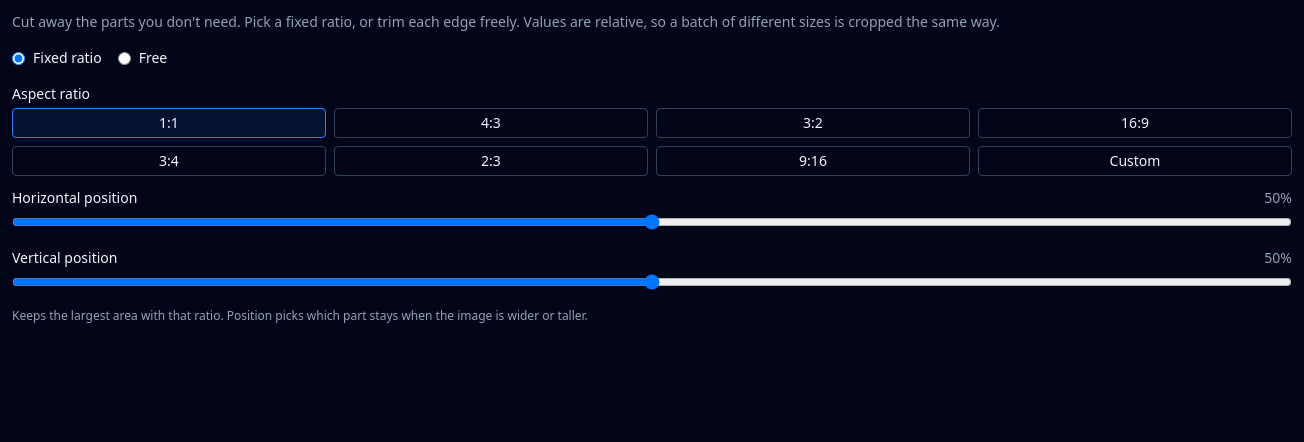
Test: crop panel › shows custom ratio fields and flags bad values
This screenshot has width=1304, height=442.
Expected: the field labelled "Ratio width" is not shown
Click the radio button labelled "Custom". click: (1135, 161)
box: 978,146 -> 1292,176
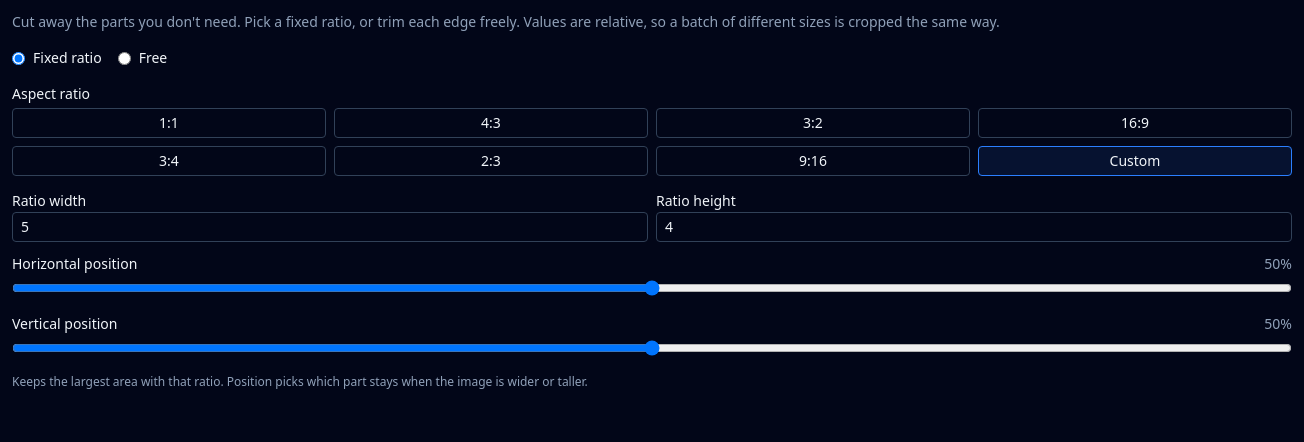
Clear the number field labelled "Ratio width". click: (330, 227)
box: 12,212 -> 648,242
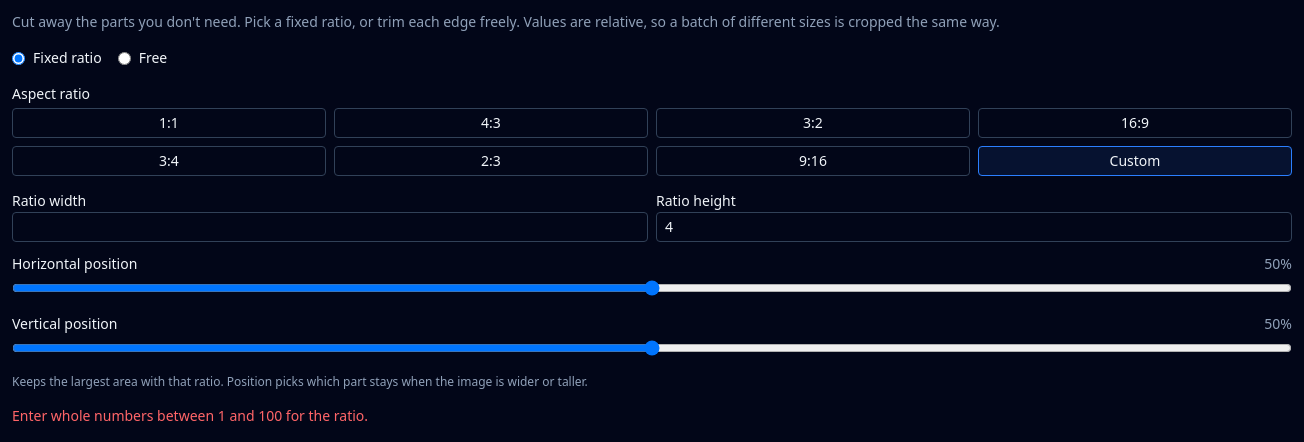
Expected: the message shows "whole numbers", 12,406 -> 368,425
Type "5" into the number field labelled "Ratio width". click: (330, 227)
box: 12,212 -> 648,242
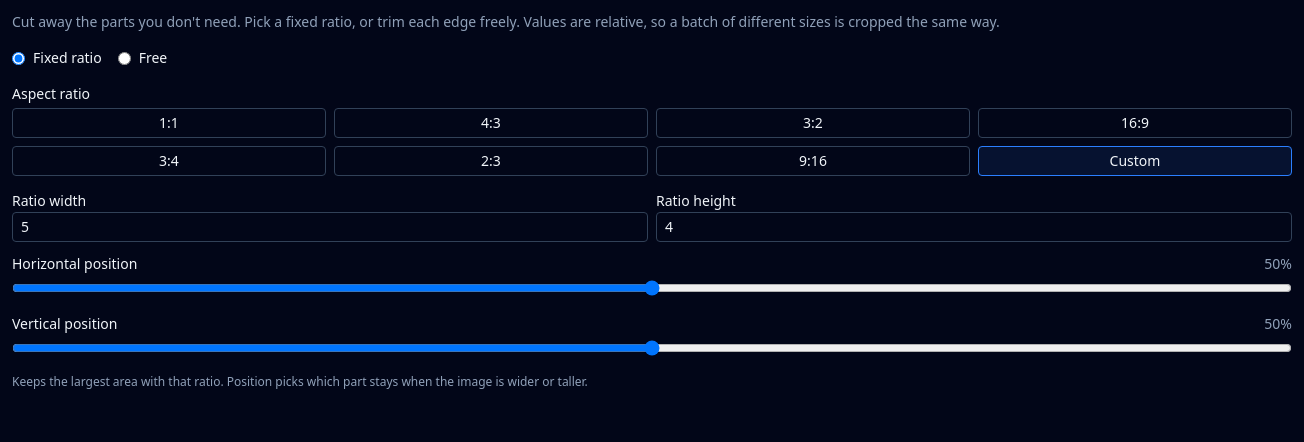
Expected: the message "Enter whole numbers between 1 and 100 for the ratio." is gone
